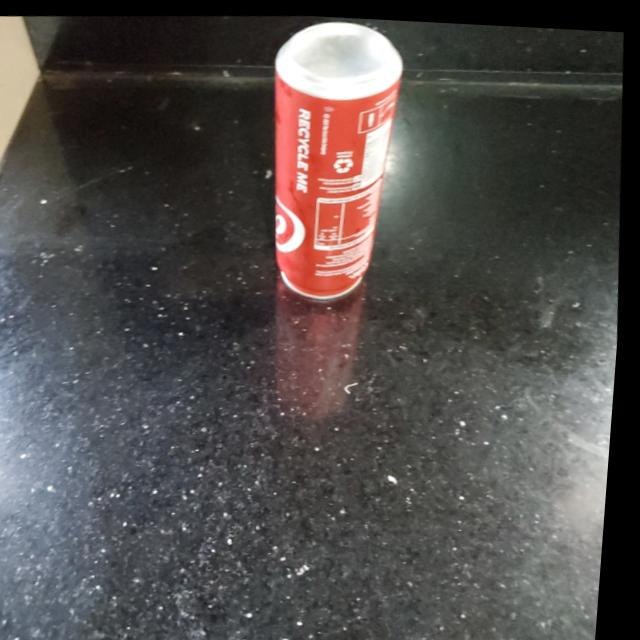coke: (265, 14, 424, 305)
